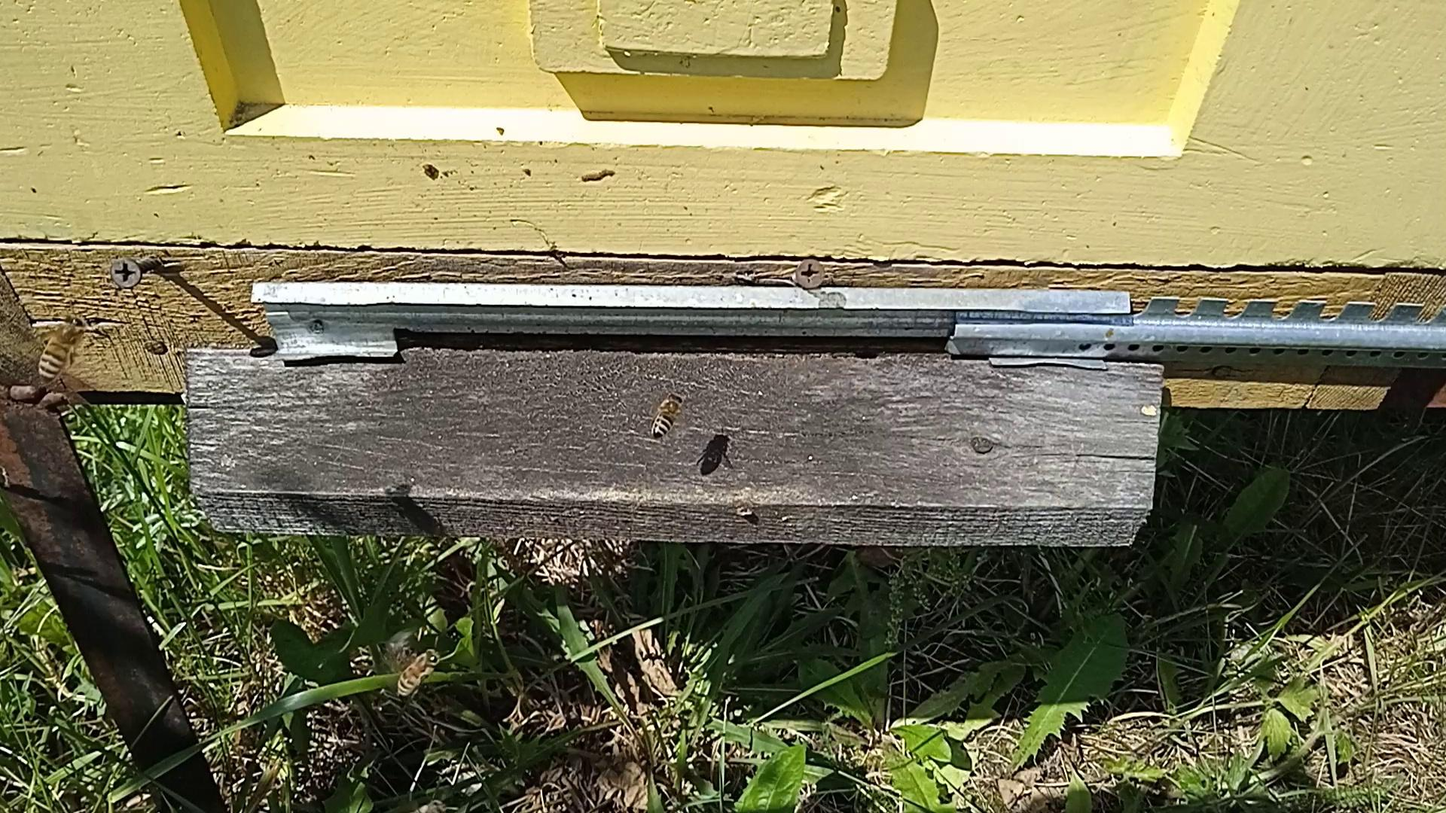worker-bee: (37, 314, 90, 381), (396, 649, 441, 698), (649, 392, 685, 439), (410, 798, 448, 813), (1042, 752, 1060, 779)
